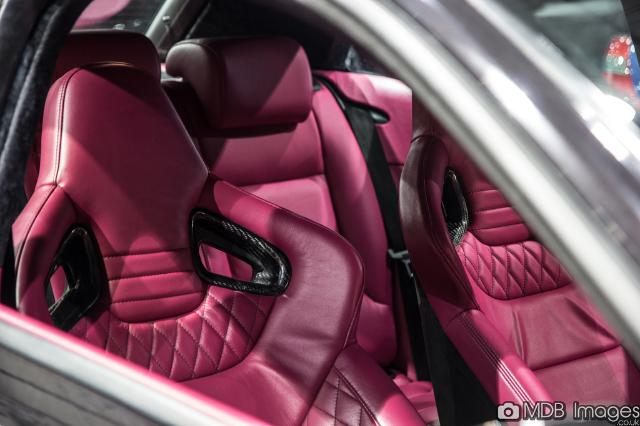Seatbelt: (343, 103, 462, 424)
